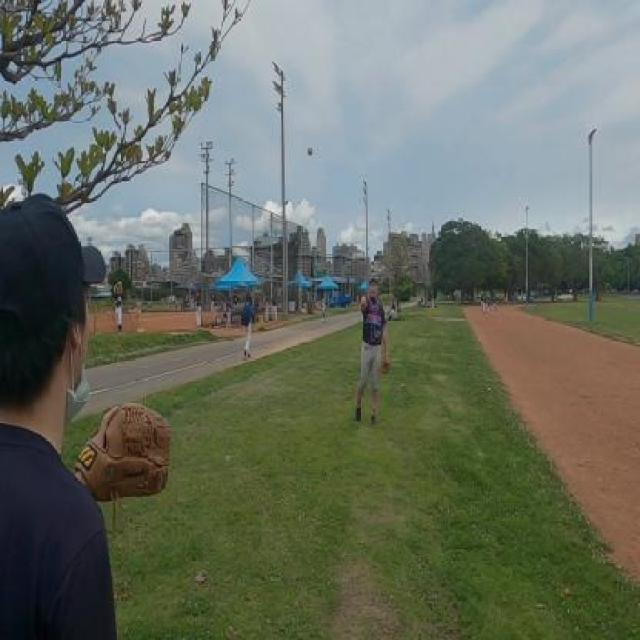baseball: (307, 147, 313, 156)
